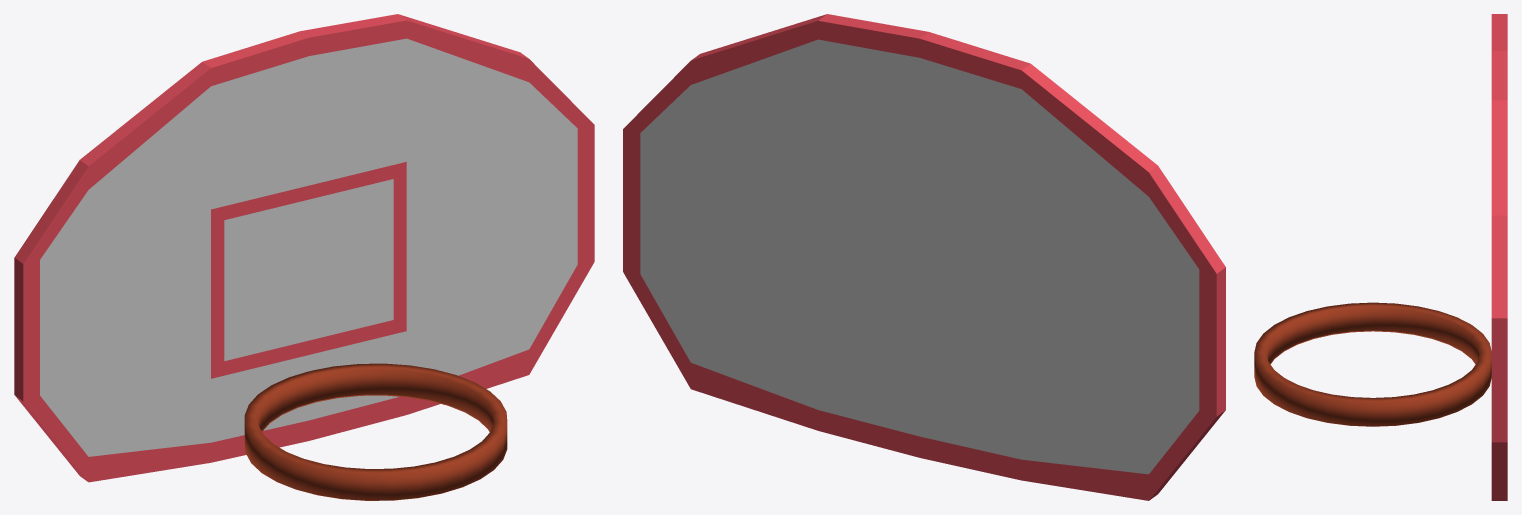
Rendered from basketball_hoop.fbx.
3 views of the same model, side by side, from view 1: azimuth 30°, elevation 25°; view 2: azimuth 150°, elevation 25°; view 3: azimuth 270°, elevation 25° (orthographic). The views are drawn at different scales.
Parts seen in each view (by area): view 1: backboard, hoop; view 2: backboard; view 3: hoop, backboard, hoop_growth_mesh.
Part boxes in pixels (x1,y1,x2,y2): backboard: (14, 14, 594, 482); hoop: (244, 363, 507, 500); backboard: (623, 14, 1225, 500); hoop: (1254, 302, 1491, 426); backboard: (1491, 14, 1507, 500); hoop_growth_mesh: (1262, 330, 1484, 426).
Bounding box in the file's own units: 558 × 376 × 238.
